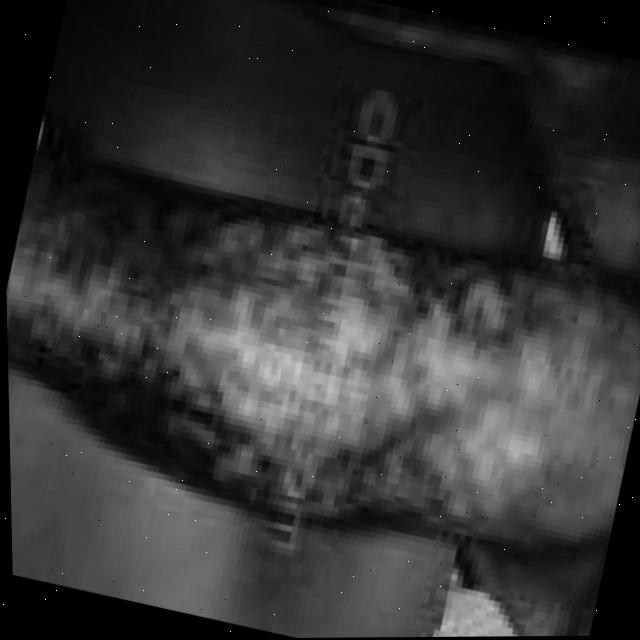Melasma: (4, 183, 575, 543)
